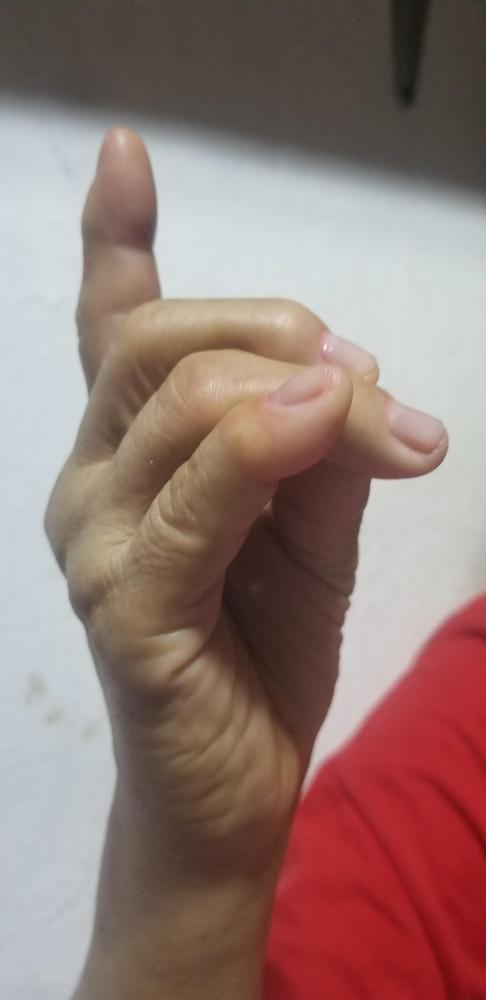d: (46, 122, 450, 815)
